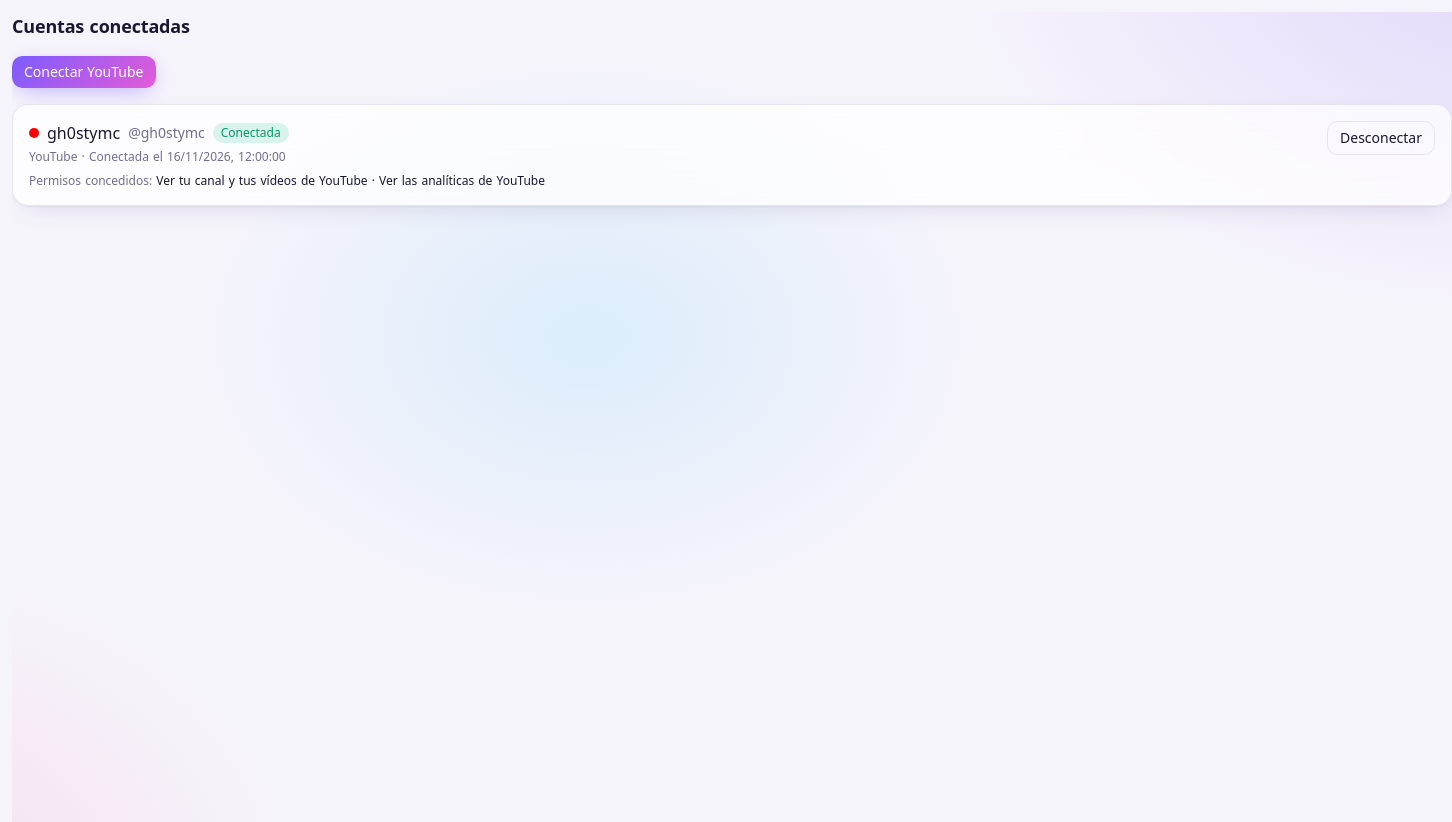
Scenario: AccountsSection › shows backend errors translated
Step 1. Click the button "Conectar YouTube" → (84, 72), box [12,56,156,88]
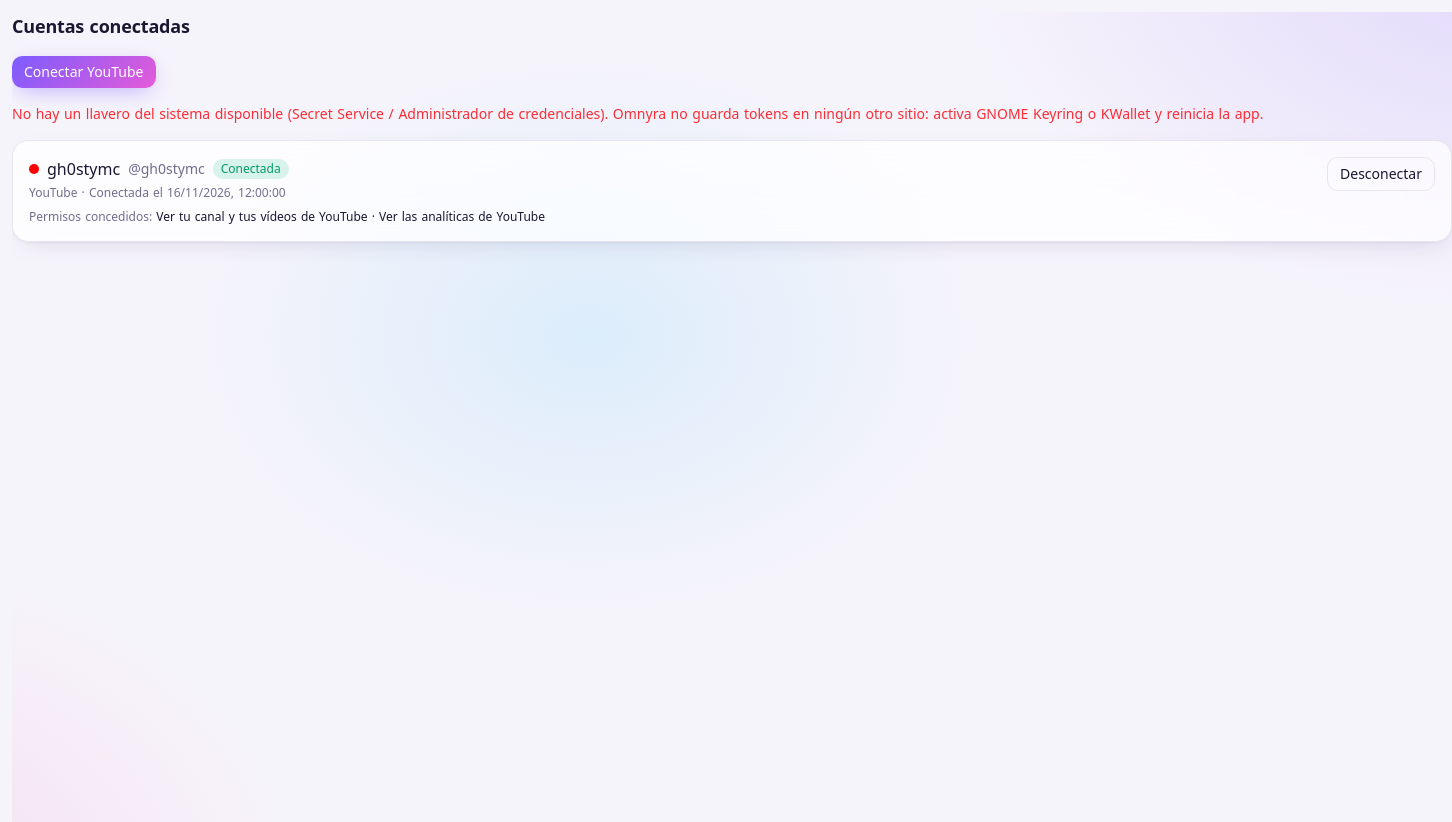
Result: the message shows "llavero del sistema" at [12,104,1264,123]
